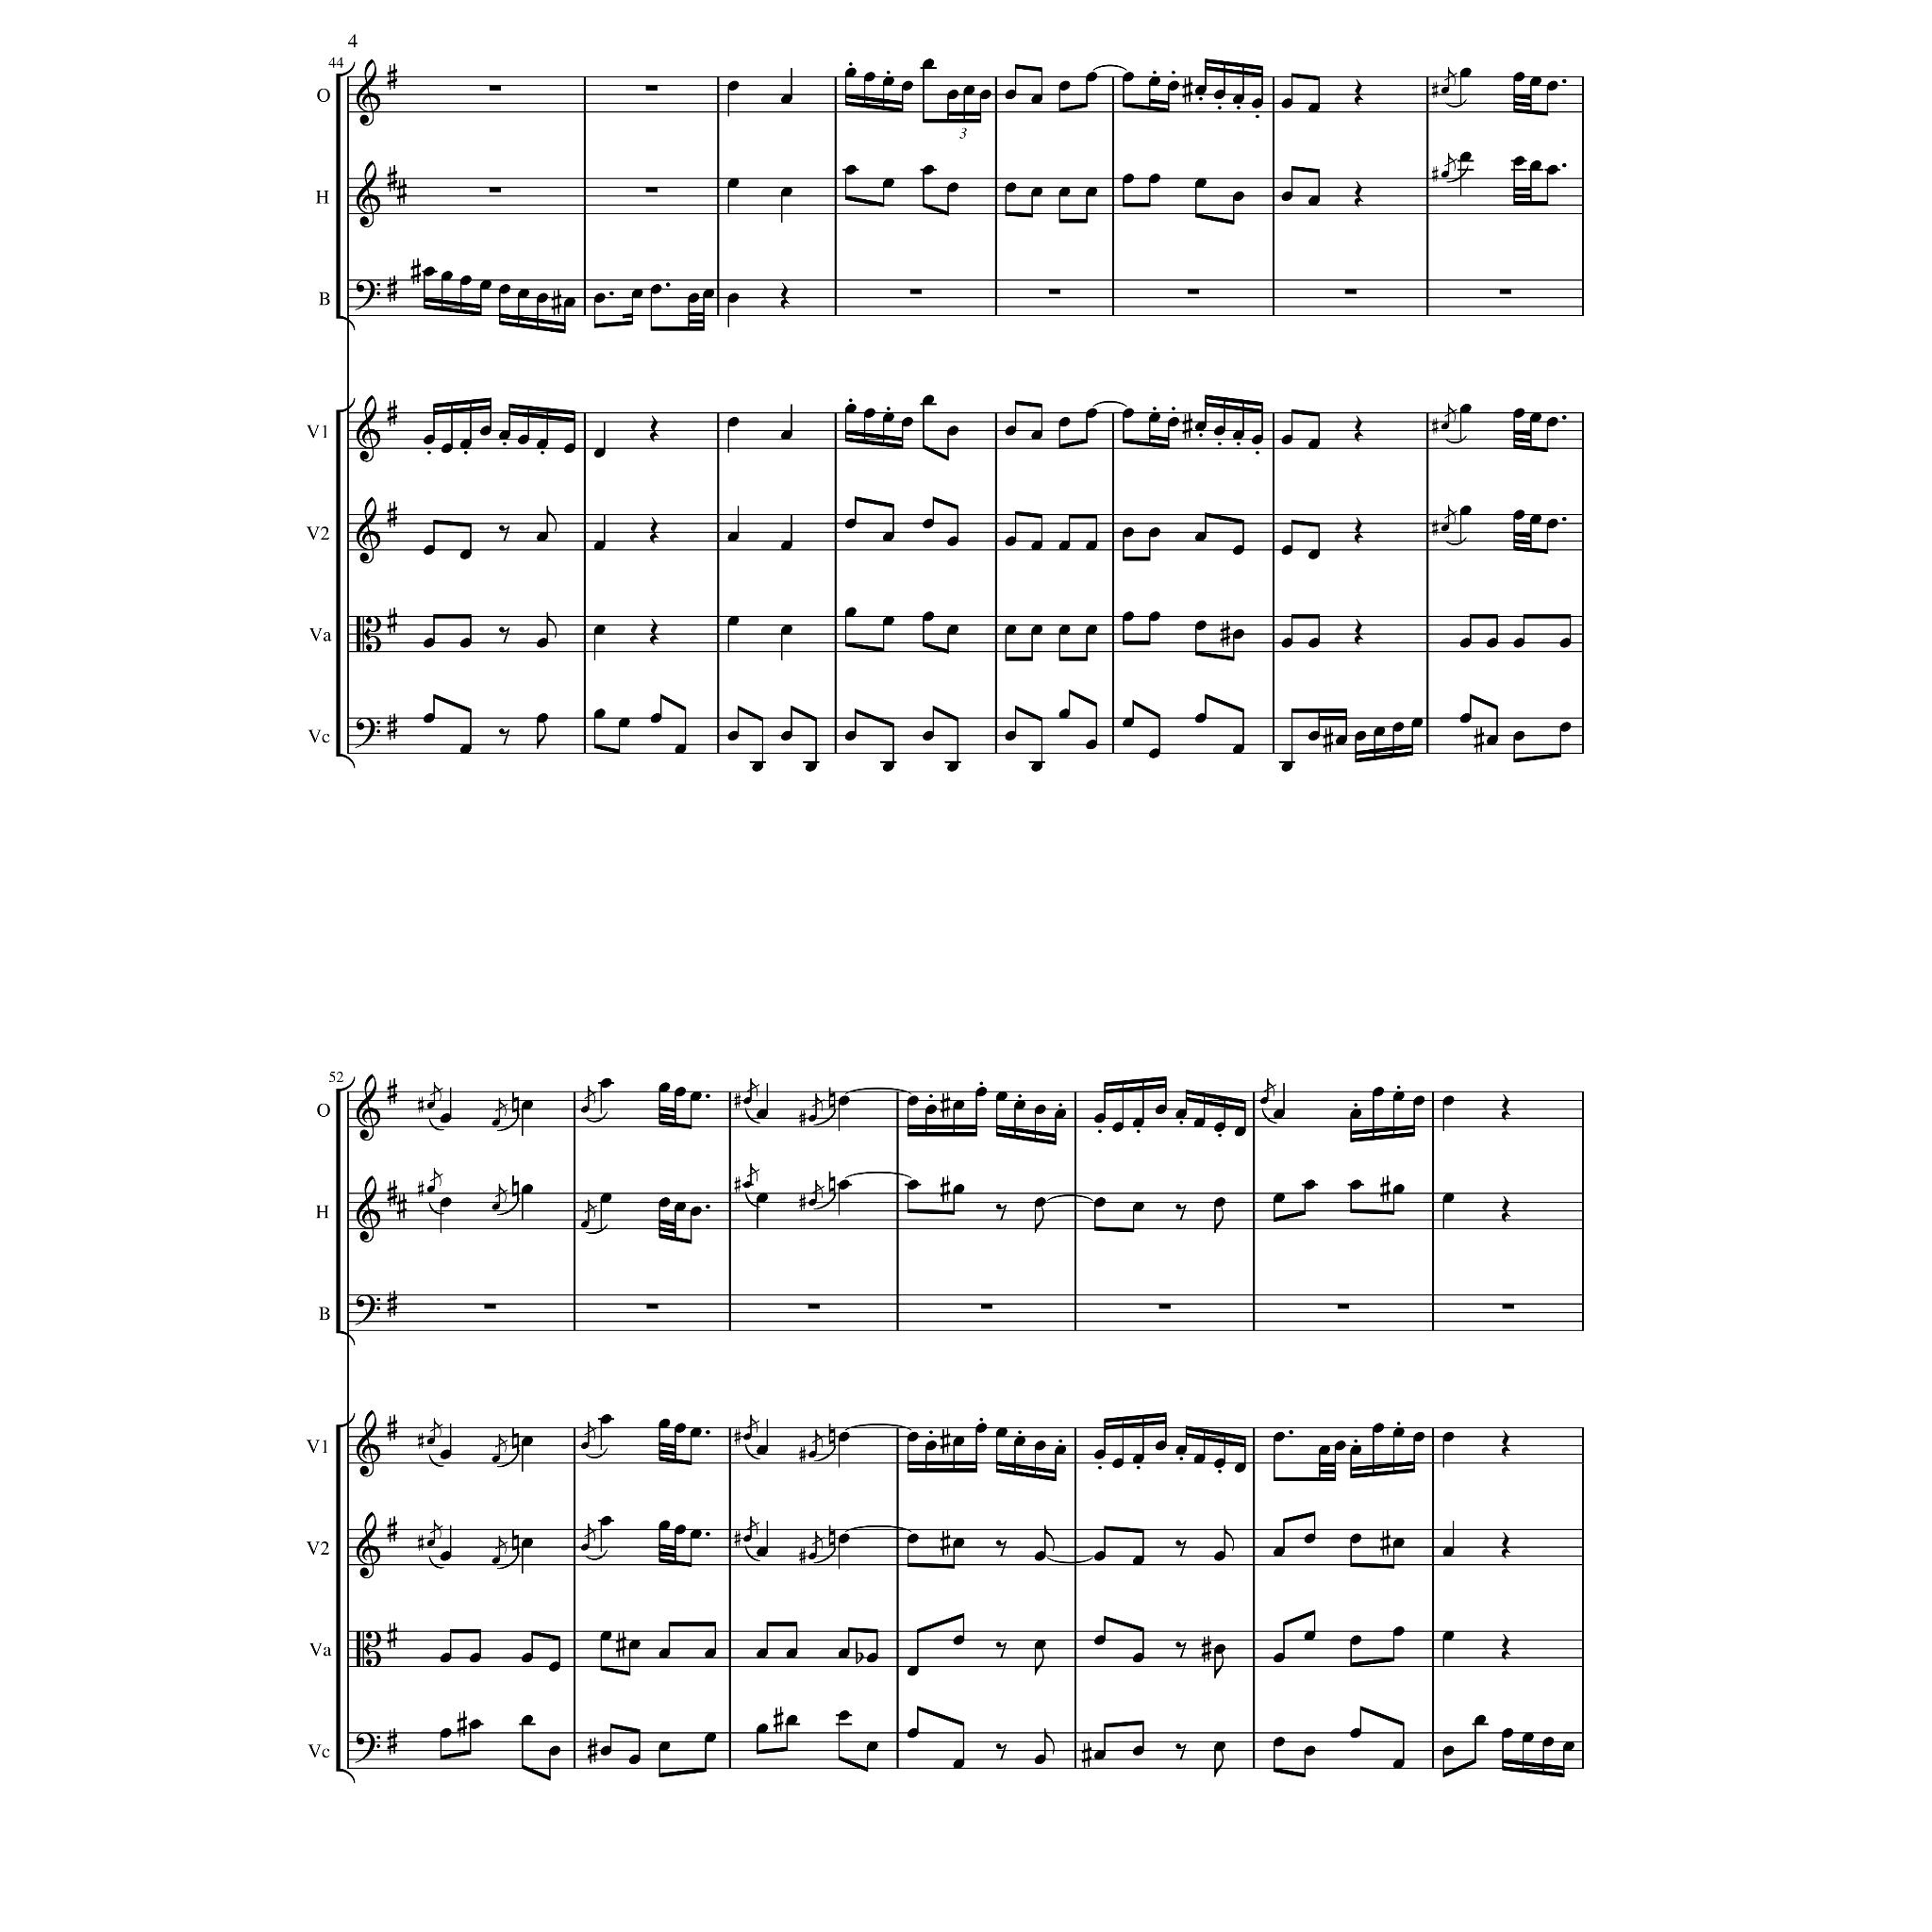fClef: (354, 280, 380, 311), (354, 1732, 380, 1764), (354, 718, 380, 748), (354, 1295, 380, 1325)
flag8thDown: (536, 722, 547, 748), (1214, 1752, 1224, 1778), (1214, 1207, 1224, 1233), (1214, 1652, 1224, 1679), (1035, 1649, 1044, 1675), (1035, 1207, 1044, 1233)
flag8thUp: (584, 1518, 598, 1543), (584, 1194, 598, 1219), (428, 1162, 442, 1187), (494, 1178, 508, 1203), (1261, 1074, 1276, 1097), (584, 1081, 598, 1104), (584, 1417, 598, 1440), (428, 1077, 442, 1100), (428, 1514, 442, 1537), (428, 1414, 442, 1437), (494, 1530, 508, 1553), (494, 1430, 508, 1453), (494, 1093, 508, 1116), (1444, 147, 1456, 172), (1444, 62, 1456, 87), (1444, 398, 1456, 423), (747, 1511, 759, 1536), (812, 1525, 824, 1550), (812, 1424, 824, 1449), (1444, 501, 1456, 524), (747, 1074, 759, 1097), (747, 1410, 759, 1433), (747, 1159, 759, 1182), (812, 1175, 824, 1198), (812, 1088, 824, 1111), (545, 612, 556, 639), (545, 506, 556, 533), (1224, 1525, 1235, 1552), (1044, 1729, 1054, 1755), (1044, 1525, 1054, 1552)
gClef: (356, 495, 380, 564), (356, 1511, 380, 1580), (356, 395, 380, 462), (356, 161, 380, 228), (356, 58, 380, 126), (356, 1410, 380, 1477), (356, 1175, 380, 1242), (356, 1074, 380, 1141)
noteheadBlack: (1251, 99, 1263, 110), (1231, 430, 1244, 441), (1231, 191, 1244, 202), (1231, 94, 1244, 104), (1212, 426, 1224, 437), (1085, 73, 1097, 83), (1212, 88, 1224, 99), (1231, 743, 1244, 754), (1231, 628, 1244, 639), (1231, 545, 1244, 556), (1307, 731, 1320, 741), (1307, 639, 1320, 649), (1307, 439, 1320, 449), (1307, 196, 1320, 207), (1307, 103, 1320, 113), (1281, 639, 1293, 649), (1281, 545, 1293, 556), (1281, 191, 1293, 202), (1281, 99, 1293, 110), (1085, 740, 1097, 750), (1085, 540, 1097, 550), (1085, 625, 1097, 635), (1122, 73, 1134, 83), (1122, 612, 1134, 623), (1122, 527, 1134, 538), (1122, 173, 1134, 184), (1194, 713, 1207, 724), (1194, 531, 1207, 541), (1194, 421, 1207, 432), (1194, 85, 1207, 96), (1148, 748, 1161, 759), (1148, 612, 1161, 623), (1148, 527, 1161, 538), (1148, 412, 1161, 423), (1148, 173, 1161, 184), (1148, 76, 1161, 87), (1166, 416, 1178, 426), (1085, 186, 1097, 196), (1559, 722, 1571, 732), (1559, 639, 1571, 649), (1530, 513, 1543, 524), (1530, 412, 1543, 423), (1530, 161, 1543, 172), (1530, 76, 1543, 87), (1546, 518, 1559, 529), (1546, 416, 1559, 426), (1546, 165, 1559, 175), (1392, 722, 1405, 732), (1373, 725, 1385, 736), (1353, 731, 1366, 741), (1513, 731, 1525, 741), (1513, 639, 1525, 649), (1513, 510, 1525, 520), (1513, 156, 1525, 166), (1513, 73, 1525, 83), (1460, 67, 1472, 78), (1460, 713, 1472, 724), (1460, 639, 1472, 649), (1460, 403, 1472, 414), (630, 288, 642, 299), (564, 442, 577, 453), (564, 297, 577, 308), (649, 285, 662, 295), (593, 709, 605, 720), (593, 625, 605, 635), (593, 540, 605, 550), (593, 448, 605, 458), (727, 731, 740, 741), (727, 616, 740, 626), (727, 531, 740, 541), (727, 416, 740, 426), (649, 713, 662, 724), (702, 288, 715, 299), (674, 743, 686, 754), (441, 442, 453, 453), (441, 271, 453, 281), (536, 713, 548, 724), (536, 639, 548, 649), (536, 531, 548, 541), (536, 439, 548, 449), (497, 430, 510, 441), (517, 288, 529, 299), (458, 743, 471, 754), (458, 639, 471, 649), (458, 439, 471, 449), (458, 274, 471, 285), (479, 280, 492, 290), (497, 285, 510, 295), (479, 426, 492, 437), (947, 625, 959, 635), (947, 536, 959, 547), (947, 426, 959, 437), (947, 182, 959, 193), (1005, 536, 1017, 547), (1005, 426, 1017, 437), (1005, 182, 1017, 193), (1005, 88, 1017, 99), (978, 88, 991, 99), (947, 88, 959, 99), (962, 85, 975, 96), (922, 731, 934, 741), (922, 612, 934, 623), (922, 518, 934, 529), (922, 395, 934, 405), (922, 165, 934, 175), (922, 58, 934, 69), (901, 416, 913, 426), (1005, 625, 1017, 635), (1058, 709, 1070, 720), (1058, 625, 1070, 635), (1058, 540, 1070, 550), (1058, 416, 1070, 426), (1058, 186, 1070, 196), (1005, 731, 1017, 741), (780, 430, 793, 441), (780, 540, 793, 550), (780, 625, 793, 635), (780, 731, 793, 741), (844, 518, 856, 529), (844, 731, 856, 741), (844, 607, 856, 617), (844, 403, 856, 414), (844, 165, 856, 175), (844, 67, 856, 78), (881, 616, 893, 626), (881, 531, 893, 541), (881, 412, 893, 423), (780, 186, 793, 196), (780, 94, 793, 104), (881, 76, 893, 87), (863, 73, 876, 83), (1214, 1458, 1226, 1468), (1192, 1453, 1205, 1463), (1214, 1741, 1226, 1752), (1214, 1644, 1226, 1654), (1214, 1552, 1226, 1562), (1214, 1196, 1226, 1207), (1214, 1122, 1226, 1132), (1175, 1109, 1187, 1120), (1272, 1109, 1284, 1120), (1272, 1192, 1284, 1203), (1272, 1431, 1284, 1442), (1272, 1546, 1284, 1557), (1272, 1652, 1284, 1663), (1272, 1736, 1284, 1746), (1233, 1463, 1246, 1474), (1233, 1127, 1246, 1138), (1093, 1449, 1106, 1460), (1093, 1196, 1106, 1207), (1093, 1113, 1106, 1123), (1093, 1552, 1106, 1562), (1054, 1109, 1067, 1120), (1093, 1750, 1106, 1760), (1093, 1635, 1106, 1645), (1033, 1638, 1046, 1649), (1033, 1552, 1046, 1562), (1033, 1440, 1046, 1451), (1033, 1196, 1046, 1207), (1033, 1104, 1046, 1115), (1033, 1753, 1046, 1764), (1014, 1437, 1026, 1447), (1014, 1099, 1026, 1109), (1132, 1746, 1145, 1757), (1132, 1652, 1145, 1663), (1132, 1555, 1145, 1566), (1132, 1453, 1145, 1463), (1132, 1201, 1145, 1212), (1154, 1440, 1166, 1451), (1154, 1104, 1166, 1115), (1111, 1458, 1123, 1468), (1111, 1122, 1123, 1132), (1562, 1741, 1575, 1752), (1474, 1714, 1486, 1725), (1522, 1732, 1534, 1743), (1392, 1759, 1405, 1769), (1392, 1626, 1405, 1637), (1392, 1537, 1405, 1548), (1392, 1426, 1405, 1437), (1392, 1184, 1405, 1194), (1392, 1092, 1405, 1102), (1371, 1422, 1384, 1433), (1371, 1086, 1384, 1097), (1304, 1746, 1316, 1757), (1304, 1631, 1316, 1642), (1304, 1534, 1316, 1545), (1304, 1180, 1316, 1191), (1350, 1635, 1362, 1645), (1350, 1534, 1362, 1545), (1350, 1180, 1362, 1191), (1350, 1109, 1362, 1120), (1334, 1440, 1346, 1451), (1442, 1746, 1454, 1757), (1442, 1631, 1454, 1642), (1442, 1546, 1454, 1557), (1442, 1431, 1454, 1442), (1442, 1192, 1454, 1203), (1442, 1095, 1454, 1106), (1412, 1431, 1424, 1442), (1412, 1095, 1424, 1106), (600, 1746, 612, 1757), (600, 1631, 612, 1642), (600, 1414, 612, 1424), (600, 1192, 612, 1203), (600, 1077, 612, 1088), (628, 1638, 640, 1649), (548, 1746, 561, 1757), (548, 1661, 561, 1672), (628, 1753, 640, 1764), (674, 1523, 686, 1534), (674, 1422, 686, 1433), (674, 1201, 686, 1212), (658, 1741, 671, 1752), (658, 1649, 671, 1660), (658, 1520, 671, 1530), (658, 1419, 671, 1430), (658, 1196, 671, 1207), (658, 1083, 671, 1093), (674, 1086, 686, 1097), (439, 1652, 451, 1663), (439, 1552, 451, 1562), (439, 1449, 451, 1460), (439, 1196, 451, 1207), (439, 1113, 451, 1123), (520, 1099, 533, 1109), (520, 1714, 533, 1725), (520, 1652, 533, 1663), (520, 1537, 533, 1548), (520, 1437, 533, 1447), (520, 1184, 533, 1194), (469, 1652, 481, 1663), (469, 1720, 481, 1730), (865, 1652, 878, 1663), (865, 1741, 878, 1752), (906, 1665, 918, 1675), (906, 1534, 918, 1545), (906, 1431, 918, 1442), (906, 1180, 918, 1191), (906, 1095, 918, 1106), (975, 1422, 987, 1433), (994, 1092, 1007, 1102), (975, 1086, 987, 1097), (994, 1426, 1007, 1437), (952, 1759, 964, 1769), (952, 1635, 964, 1645), (952, 1537, 964, 1548), (952, 1437, 964, 1447), (952, 1184, 964, 1194), (952, 1099, 964, 1109), (924, 1440, 936, 1451), (924, 1104, 936, 1115), (755, 1109, 768, 1120), (755, 1723, 768, 1734), (755, 1649, 768, 1660), (755, 1546, 768, 1557), (755, 1192, 768, 1203), (704, 1649, 717, 1660), (704, 1732, 717, 1743), (786, 1649, 798, 1660), (837, 1709, 849, 1720), (837, 1649, 849, 1660), (837, 1534, 849, 1545), (837, 1431, 849, 1442), (837, 1180, 849, 1191), (837, 1095, 849, 1106), (786, 1714, 798, 1725), (1486, 639, 1497, 649), (423, 713, 433, 724), (423, 639, 433, 649), (423, 545, 433, 556), (1031, 625, 1042, 635), (1031, 540, 1042, 550), (1031, 430, 1042, 441), (1031, 186, 1042, 196), (1031, 94, 1042, 104), (1543, 1736, 1553, 1746), (690, 1207, 701, 1217), (690, 1092, 701, 1102), (690, 1426, 701, 1437), (690, 1529, 701, 1539), (1251, 435, 1263, 444), (1281, 435, 1293, 444), (1307, 550, 1320, 559), (1281, 763, 1293, 771), (1085, 409, 1097, 418), (1122, 718, 1134, 727), (1122, 409, 1134, 418), (1194, 621, 1207, 630), (1194, 179, 1207, 188), (1166, 81, 1178, 90), (1546, 81, 1559, 90), (1410, 718, 1422, 727), (1336, 736, 1348, 745), (1513, 409, 1525, 418), (1460, 506, 1472, 515), (1460, 152, 1472, 161), (617, 718, 630, 727), (593, 294, 605, 303), (727, 294, 740, 303), (727, 179, 740, 188), (727, 81, 740, 90), (686, 294, 699, 303), (536, 294, 548, 303), (517, 435, 529, 444), (458, 550, 471, 559), (947, 763, 959, 771), (901, 81, 913, 90), (1058, 81, 1070, 90), (881, 763, 893, 771), (752, 763, 764, 771), (881, 179, 893, 188), (863, 409, 876, 418), (1192, 1118, 1205, 1127), (1175, 1445, 1187, 1454), (1054, 1445, 1067, 1454), (1132, 1118, 1145, 1127), (1502, 1729, 1514, 1737), (1350, 1729, 1362, 1737), (1350, 1445, 1362, 1454), (1318, 1445, 1330, 1454), (600, 1516, 612, 1525), (439, 1729, 451, 1737), (906, 1729, 918, 1737), (755, 1445, 768, 1454), (1486, 736, 1497, 745), (423, 435, 433, 444), (423, 267, 433, 276), (1031, 763, 1042, 771), (805, 763, 816, 771), (1440, 524, 1449, 533), (426, 1100, 435, 1109), (1440, 423, 1449, 430), (1440, 172, 1449, 179), (1440, 87, 1449, 94), (580, 1543, 587, 1552), (426, 1438, 435, 1445), (426, 1539, 435, 1546), (426, 1185, 435, 1192), (492, 1118, 499, 1127), (743, 1536, 752, 1543), (743, 1182, 752, 1189), (743, 1097, 752, 1104), (743, 1433, 752, 1440), (1260, 1097, 1267, 1104), (580, 1442, 587, 1449), (580, 1221, 587, 1228), (580, 1106, 587, 1113), (492, 1557, 499, 1564), (492, 1454, 499, 1461), (492, 1203, 499, 1210), (809, 1115, 816, 1122), (809, 1198, 816, 1205), (809, 1553, 816, 1560), (809, 1451, 816, 1458)
rest8th: (499, 626, 510, 644), (499, 525, 510, 543), (1175, 1743, 1185, 1760), (1175, 1539, 1185, 1557), (1175, 1203, 1185, 1221), (996, 1203, 1007, 1221), (996, 1743, 1007, 1760), (996, 1539, 1007, 1557), (499, 729, 510, 745), (1175, 1642, 1185, 1658), (996, 1642, 1007, 1658)
restQuarter: (1500, 1633, 1511, 1661), (1500, 1430, 1511, 1458), (1500, 1194, 1511, 1223), (1500, 1093, 1511, 1122), (1500, 1532, 1511, 1559), (1353, 414, 1362, 442), (1353, 180, 1362, 209), (649, 414, 658, 442), (1353, 619, 1362, 646), (1353, 517, 1362, 543), (1353, 80, 1362, 106), (649, 619, 658, 646), (649, 517, 658, 543), (780, 283, 789, 310)
restWhole: (1047, 288, 1060, 294), (644, 87, 656, 92), (644, 188, 656, 193), (909, 288, 922, 294), (1499, 288, 1511, 294), (488, 188, 501, 193), (488, 87, 501, 92), (646, 1304, 658, 1309), (807, 1304, 819, 1309), (1338, 1304, 1350, 1309), (980, 1304, 993, 1309), (1502, 1304, 1514, 1309), (483, 1304, 495, 1309), (1187, 288, 1198, 294), (1345, 288, 1355, 294), (1159, 1304, 1169, 1309)
